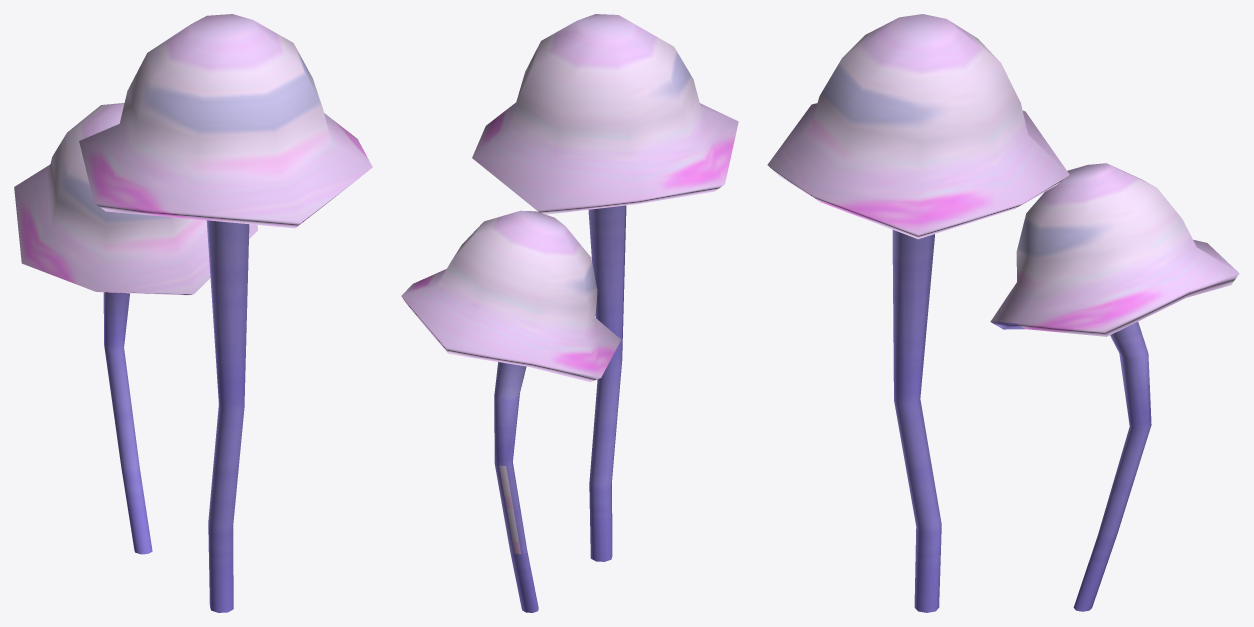
File: setaM02.fbx
3 renders of one model, left to right at view 1: azimuth 30°, elevation 25°; view 2: azimuth 150°, elevation 25°; view 3: azimuth 270°, elevation 25°, orthographic. The views are drawn at different scales.
Visible parts, largest first — view 1: SetaM02, Setalta015b; view 2: SetaM02, Setalta015b; view 3: SetaM02, Setalta015b.
Boxes of the visible parts, <box> form: SetaM02: <box>79,14,372,612</box>; Setalta015b: <box>14,103,257,554</box>; SetaM02: <box>472,14,738,561</box>; Setalta015b: <box>401,210,620,612</box>; SetaM02: <box>767,14,1069,612</box>; Setalta015b: <box>990,163,1239,611</box>.
Bounding box in the file's own units: 3043 × 6439 × 4747.
